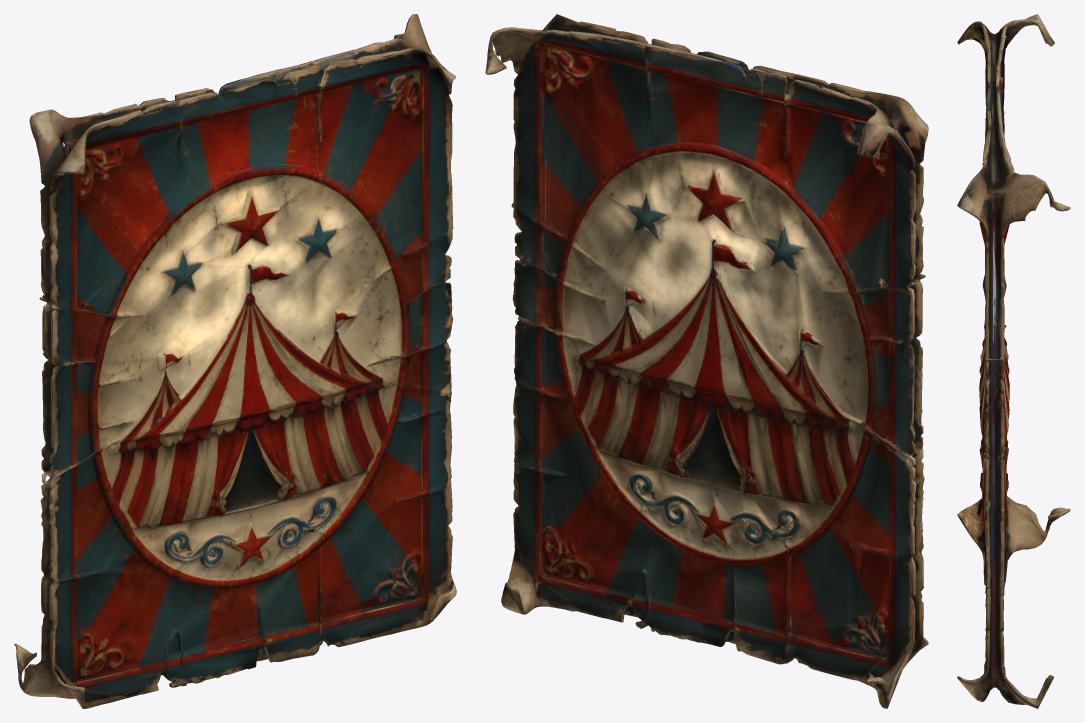
The model's file is Meshy_AI_Big_Top_Banner_0510025828_texture.fbx.
3 views of the same model, side by side, from view 1: azimuth 30°, elevation 25°; view 2: azimuth 150°, elevation 25°; view 3: azimuth 270°, elevation 25° (orthographic). The views are drawn at different scales.
Parts seen in each view (by area): view 1: Mesh_0; view 2: Mesh_0; view 3: Mesh_0.
Part boxes in pixels (x1,y1,x2,y2): Mesh_0: [14, 14, 456, 708]; Mesh_0: [485, 14, 928, 708]; Mesh_0: [957, 14, 1070, 708].
Bounding box in the file's own units: 137 × 191 × 36.57.
Materials: 1 (1 with a texture image).
